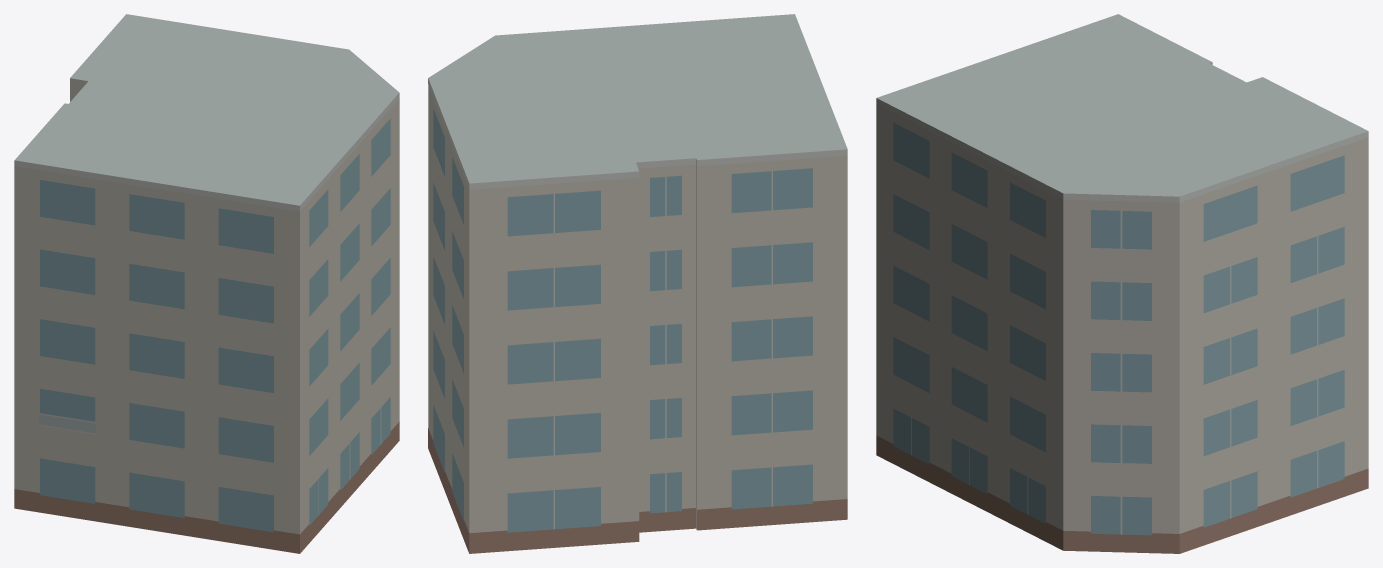
The model's file is survey-upis-32836633.glb.
3 renders of one model, left to right at view 1: azimuth 30°, elevation 25°; view 2: azimuth 150°, elevation 25°; view 3: azimuth 270°, elevation 25°, orthographic. The views are drawn at different scales.
Parts seen in each view (by area): view 1: survey-upis-32836633.tmp; view 2: survey-upis-32836633.tmp; view 3: survey-upis-32836633.tmp.
Boxes of the visible parts, x1=… form: survey-upis-32836633.tmp: x1=14, y1=14, x2=399, y2=553; survey-upis-32836633.tmp: x1=428, y1=14, x2=847, y2=553; survey-upis-32836633.tmp: x1=876, y1=14, x2=1368, y2=553.
Bounding box in the file's own units: 15.79 × 14.4 × 17.99.
